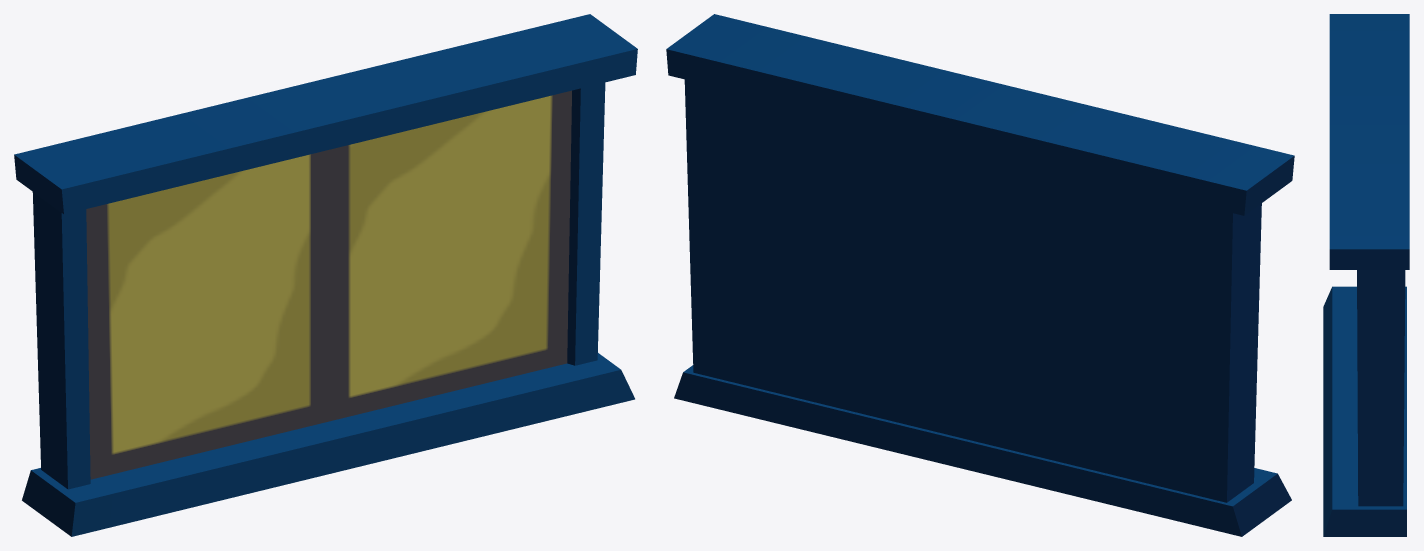
The model's file is Window_A02.fbx.
3 views of the same model, side by side, from view 1: azimuth 30°, elevation 25°; view 2: azimuth 150°, elevation 25°; view 3: azimuth 270°, elevation 25° (orthographic). The views are drawn at different scales.
Parts seen in each view (by area): view 1: Window_A02; view 2: Window_A02; view 3: Window_A02.
Part boxes in pixels (x1,y1,x2,y2): Window_A02: (14,14,637,536); Window_A02: (666,14,1294,536); Window_A02: (1323,14,1409,536).
Size of the model in its own units: 314 by 180 by 48.47.
1 material, 1 textured.
